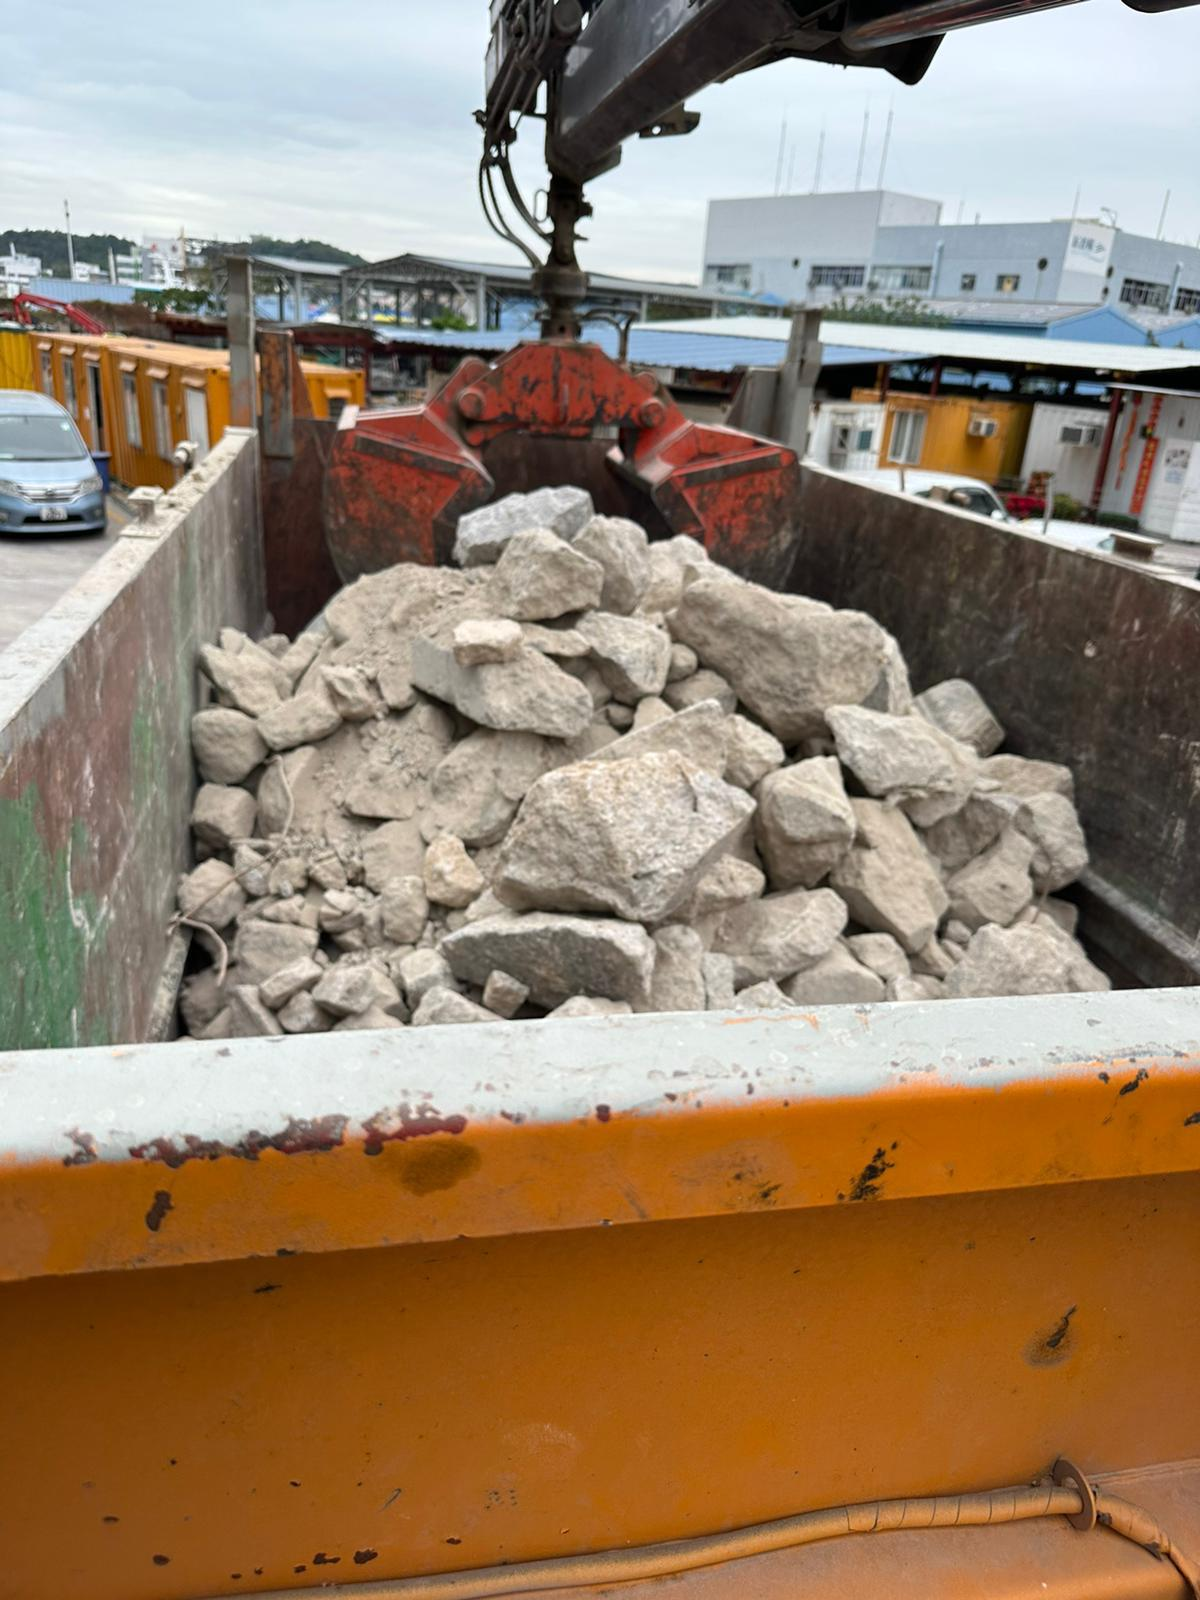dry: (224, 558, 1095, 1018)
